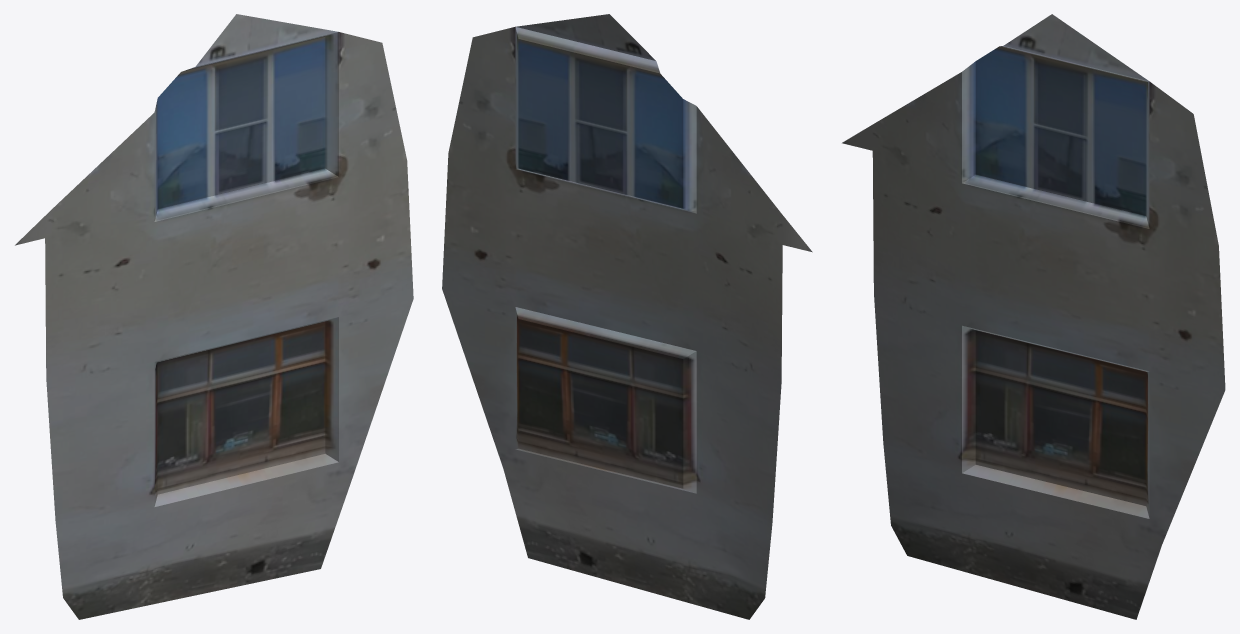
The model's file is House_03_16.fbx.
The picture shows the model from 3 angles, left to right: view 1: azimuth 30°, elevation 25°; view 2: azimuth 150°, elevation 25°; view 3: azimuth 330°, elevation 25°; orthographic projection. The views are drawn at different scales.
Visible parts, largest first — view 1: Дом2.016; view 2: Дом2.016; view 3: Дом2.016.
Boxes of the visible parts, left/top/right/bottom form: Дом2.016: left=15, top=14, right=413, bottom=619; Дом2.016: left=442, top=14, right=812, bottom=619; Дом2.016: left=842, top=14, right=1225, bottom=619.
Size of the model in its own units: 8.11 by 11.47 by 0.3919.
Materials: 1 (1 with a texture image).
